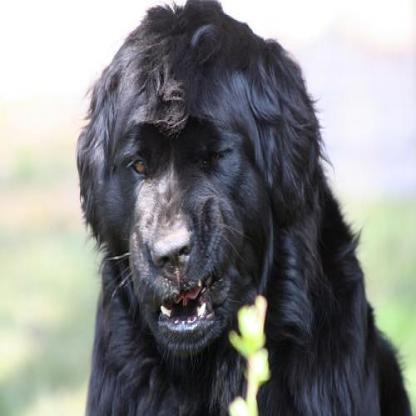Newfoundland: (66, 0, 413, 412)
